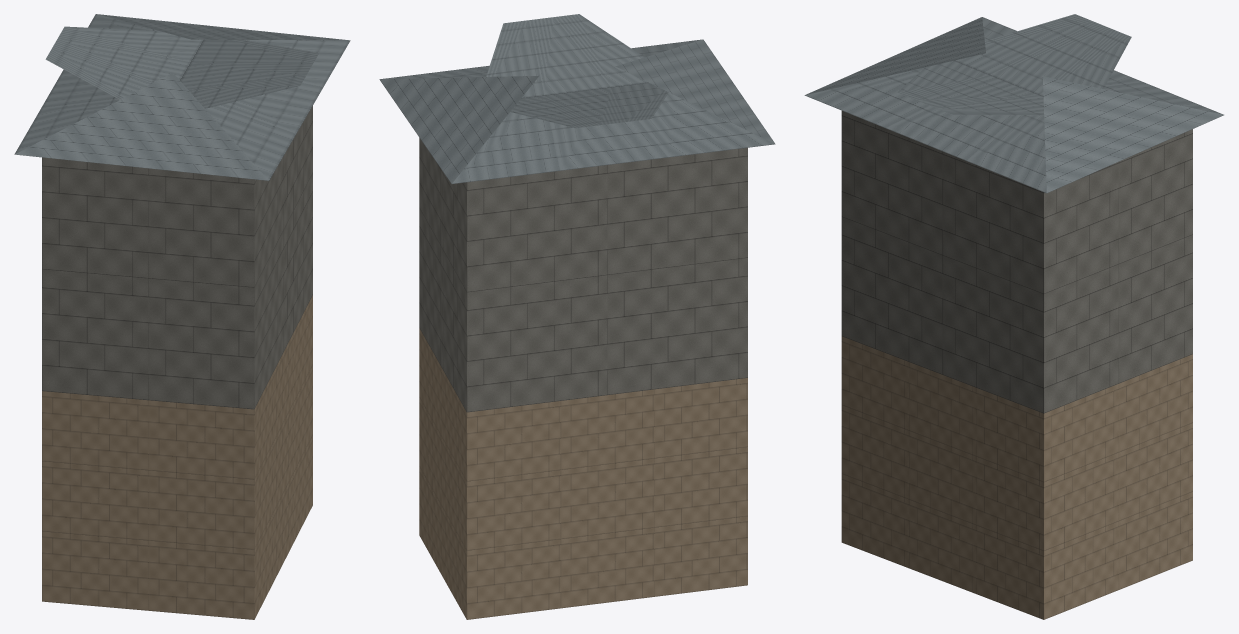
Rendered from bld_c9_43_511.gltf.
3 views of the same model, side by side, from view 1: azimuth 30°, elevation 25°; view 2: azimuth 150°, elevation 25°; view 3: azimuth 270°, elevation 25° (orthographic). The views are drawn at different scales.
Parts seen in each view (by area): view 1: bld_c9_43_511; view 2: bld_c9_43_511; view 3: bld_c9_43_511.
Part boxes in pixels (x1=…): bld_c9_43_511: x1=14, y1=14, x2=350, y2=619; bld_c9_43_511: x1=379, y1=14, x2=775, y2=619; bld_c9_43_511: x1=804, y1=14, x2=1223, y2=619.
Bounding box in the file's own units: 9.36 × 12 × 9.42.
3 materials, 3 textured.
